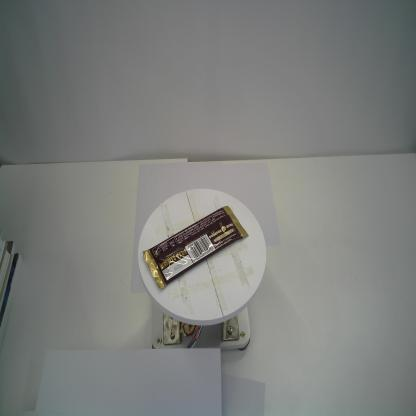Chocolate: (141, 204, 249, 290)
